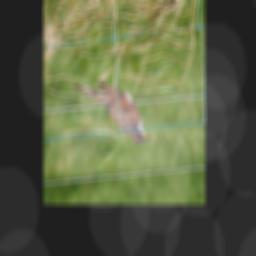Cuckoo: (72, 75, 152, 147)
